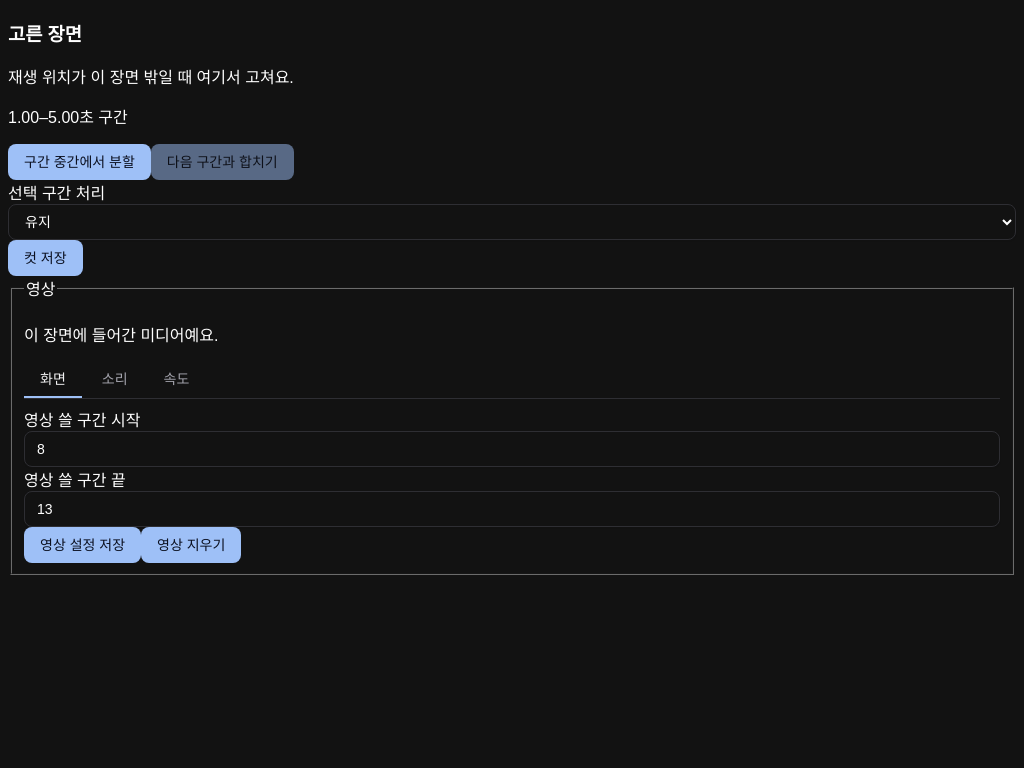
InspectorControls › still refuses a source window that ends before it starts
Replace the text in the number field labelled "영상 쓸 구간 끝" with "4" at (512, 509), box [24,491,1000,527]
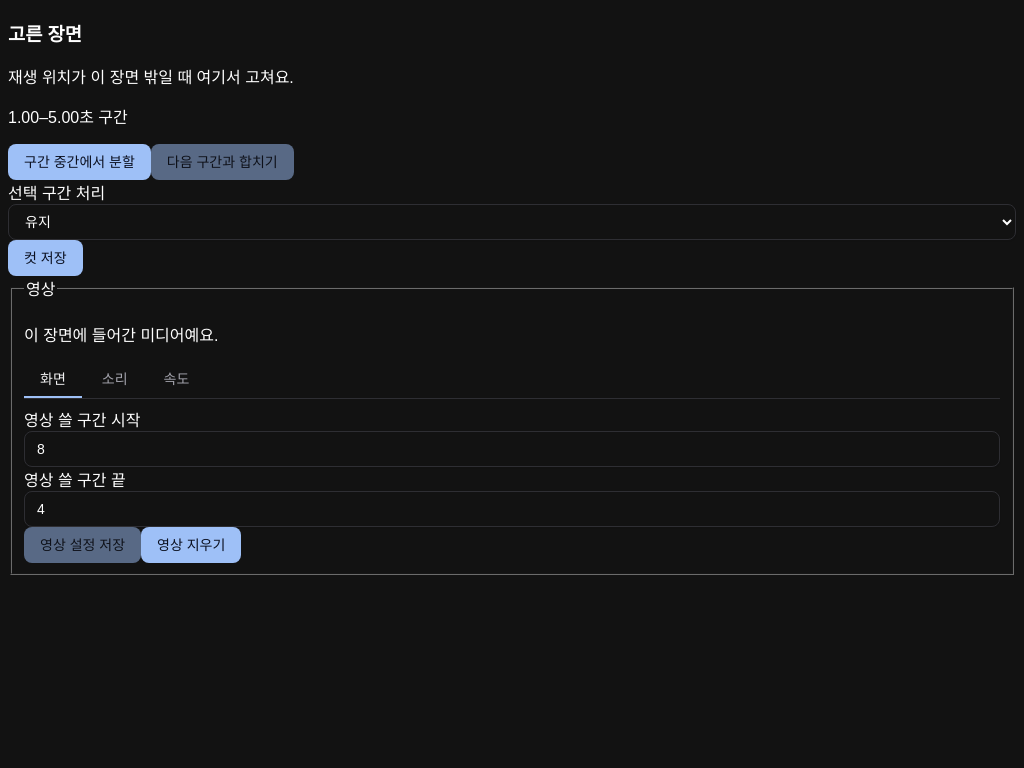
Check: the button "영상 설정 저장" is disabled, box [24,527,141,563]
